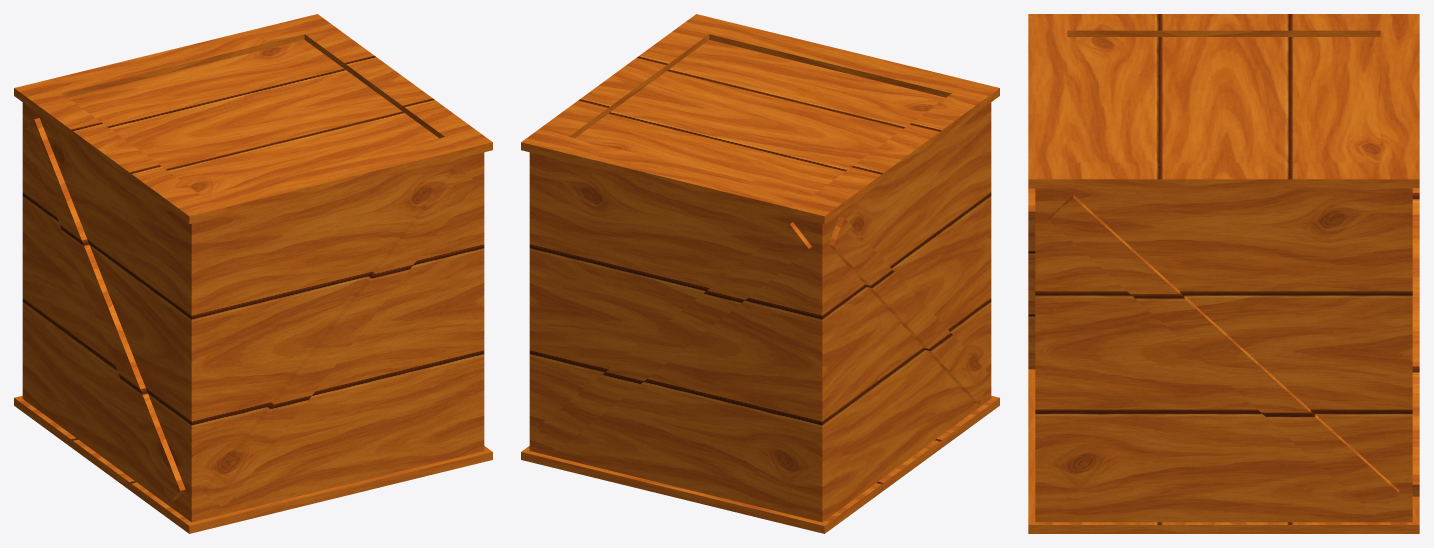
File: wood_crate-CTegPWp7.glb
3 views of the same model, side by side, from view 1: azimuth 30°, elevation 25°; view 2: azimuth 150°, elevation 25°; view 3: azimuth 270°, elevation 25° (orthographic). The views are drawn at different scales.
Parts seen in each view (by area): view 1: FLC_wood_crate; view 2: FLC_wood_crate; view 3: FLC_wood_crate.
Part boxes in pixels (bbox=[...]): FLC_wood_crate: bbox=[14, 14, 492, 533]; FLC_wood_crate: bbox=[521, 14, 999, 533]; FLC_wood_crate: bbox=[1028, 14, 1419, 533].
Bounding box in the file's own units: 0.56 × 0.56 × 0.56.
Materials: 1 (1 with a texture image).
